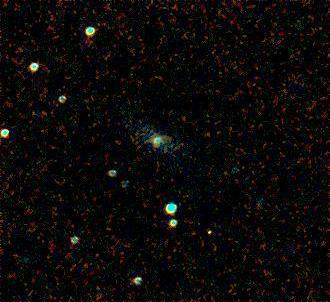star: (193, 216, 223, 246)
